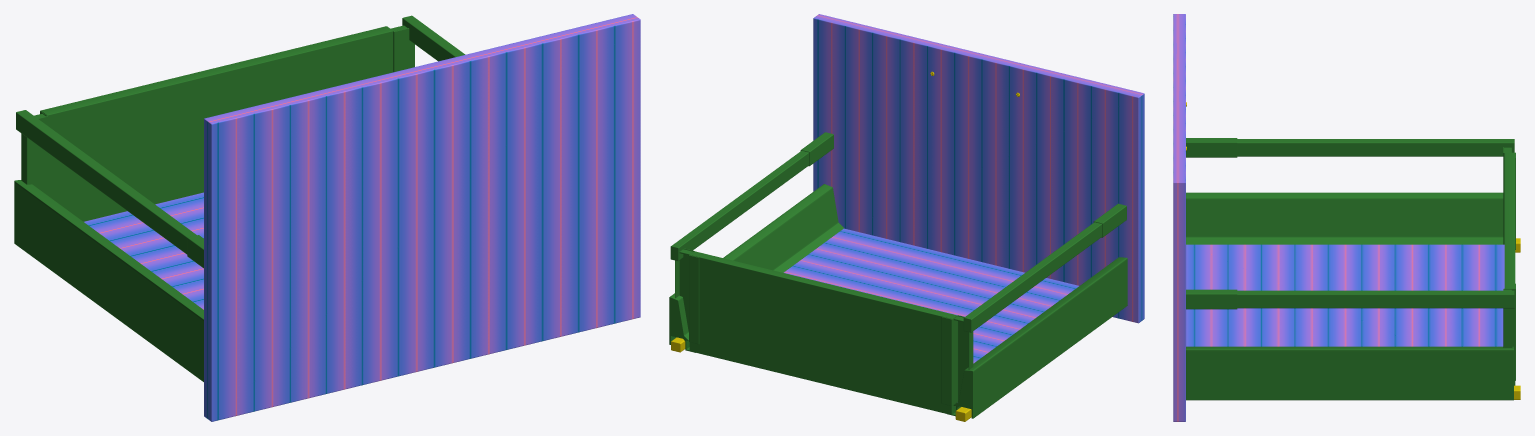
File: SM_Kitchen_05_Base_Drawer_03.fbx
3 views of the same model, side by side, from view 1: azimuth 30°, elevation 25°; view 2: azimuth 150°, elevation 25°; view 3: azimuth 270°, elevation 25° (orthographic). The views are drawn at different scales.
Parts seen in each view (by area): view 1: SM_Kitchen_05_Base_Drawer_03; view 2: SM_Kitchen_05_Base_Drawer_03; view 3: SM_Kitchen_05_Base_Drawer_03.
Boxes of the visible parts, x1,y1,x2,y2 form: SM_Kitchen_05_Base_Drawer_03: (14,14,640,421); SM_Kitchen_05_Base_Drawer_03: (669,14,1144,421); SM_Kitchen_05_Base_Drawer_03: (1173,14,1520,421).
Bounding box in the file's own units: 59.69 × 39.6 × 51.99.
4 materials, 2 textured.
